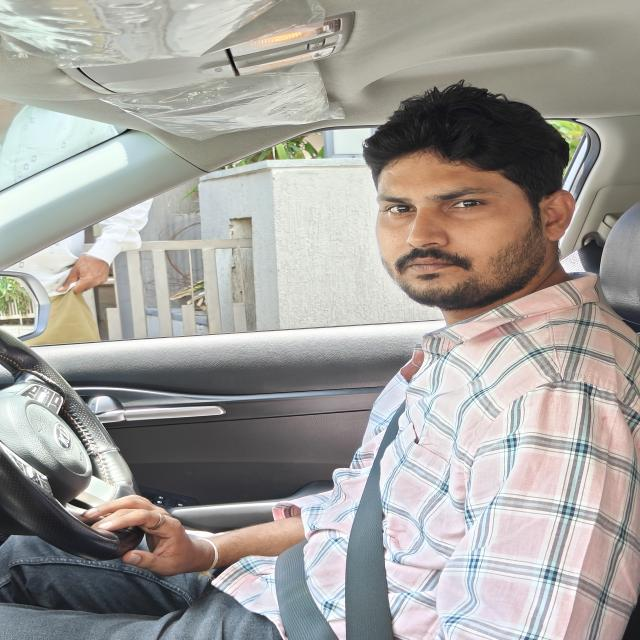seatbelt: (278, 393, 408, 640)
